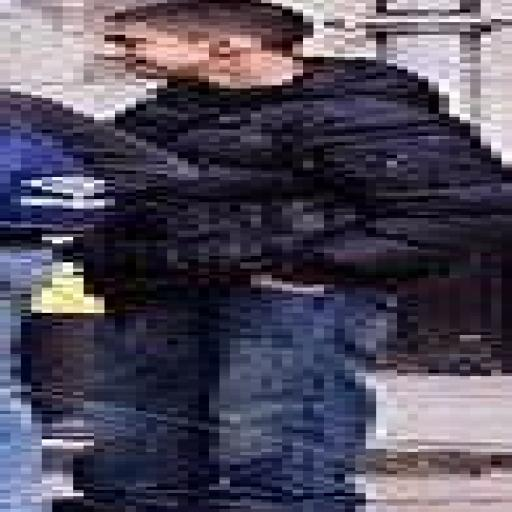person: (53, 0, 511, 511), (0, 92, 177, 511)
